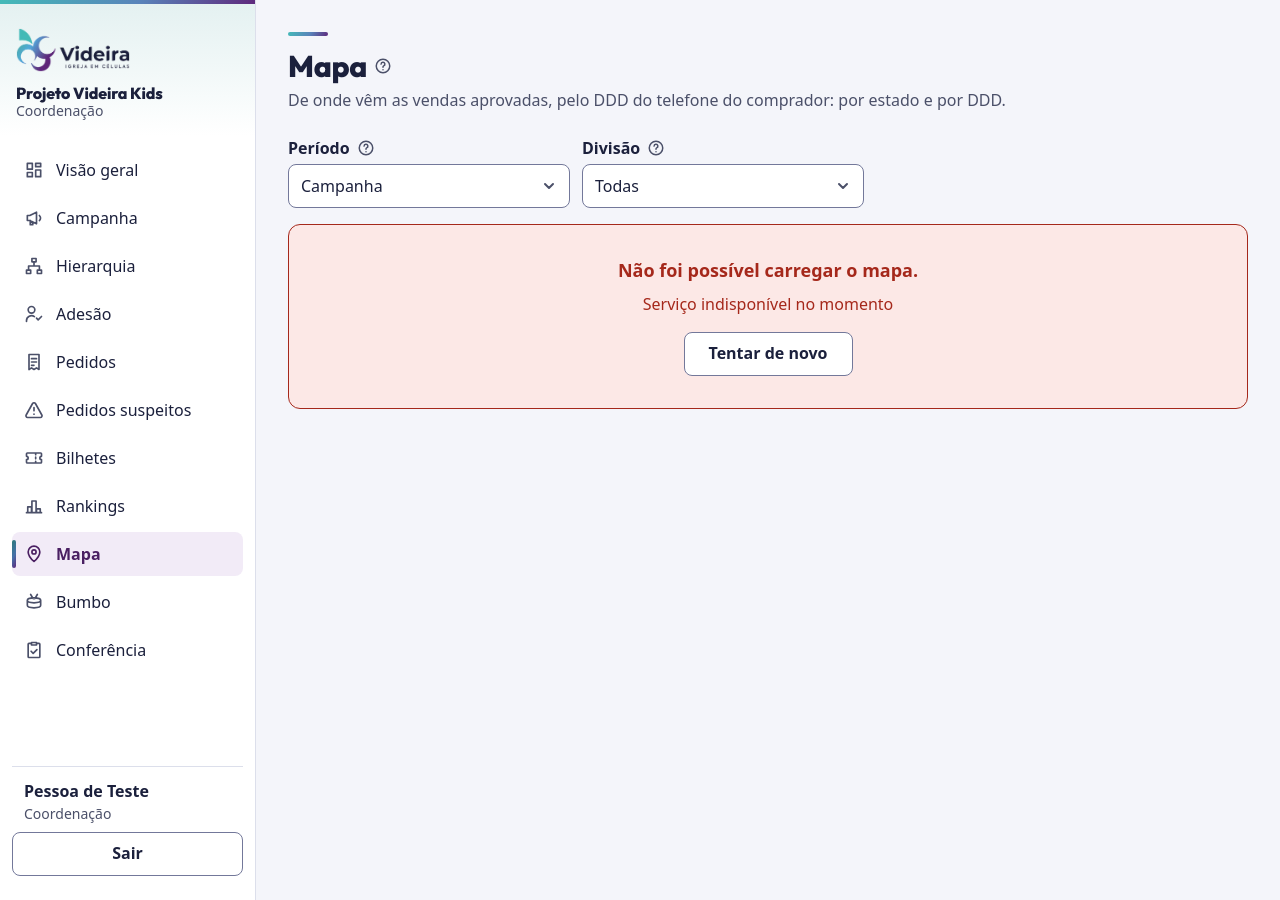
it: CA4: estados vazio, sem campanha e erro › erro: a mensagem e o 'Tentar de novo', com o cabeçalho e os filtros no lugar; tentar de novo carrega o mapa
This screenshot has width=1280, height=900.
Check: the message shows "Não foi possível carregar o mapa.", box top-left (618, 258), bottom-right (918, 282)
Check: the message shows "Serviço indisponível no momento", box top-left (643, 293), bottom-right (893, 315)
Click the button "Tentar de novo": (768, 354) top-left (684, 332), bottom-right (852, 376)
(page scrolled)
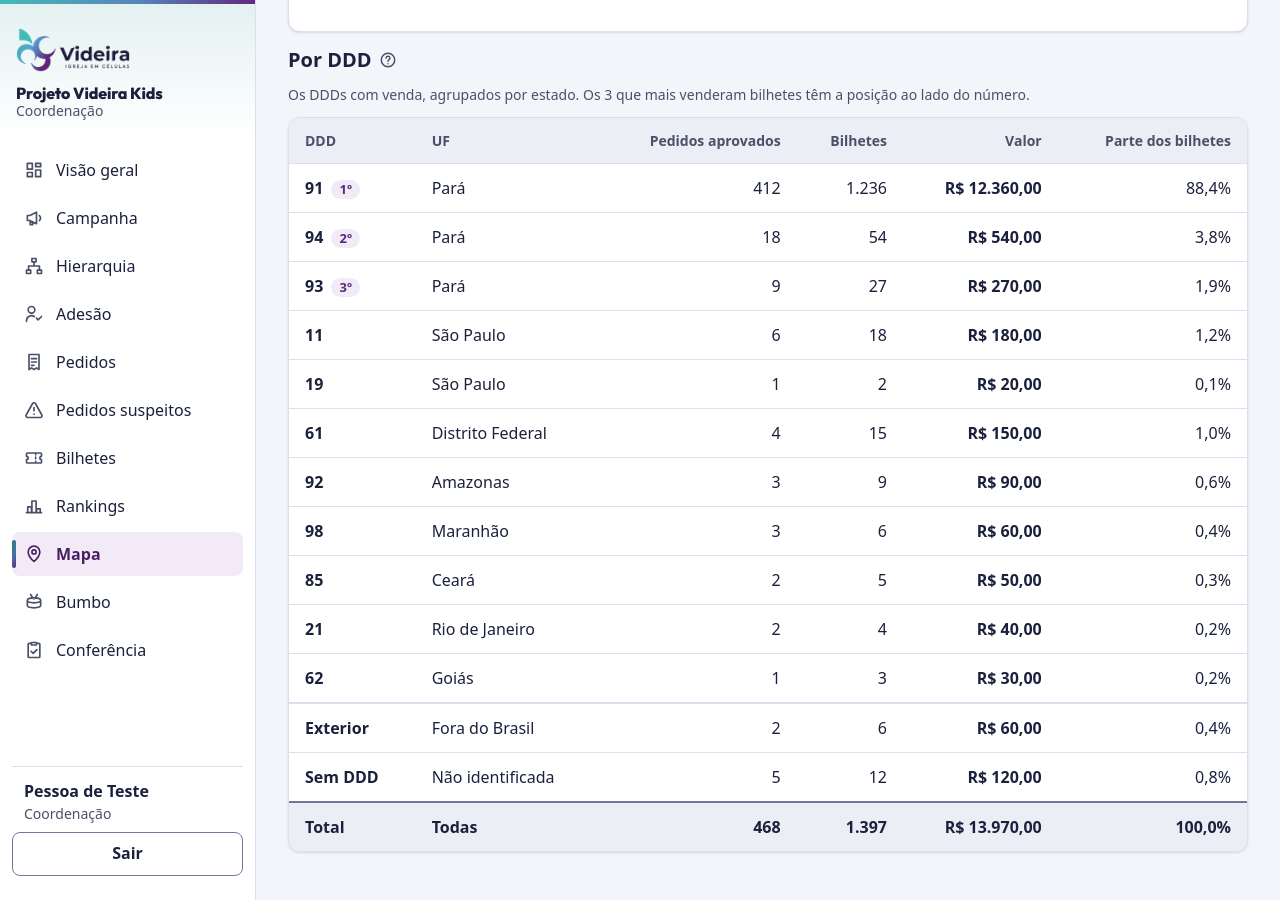
Check: the table named "Vendas por DDD, com exterior, sem DDD e o total" is shown
